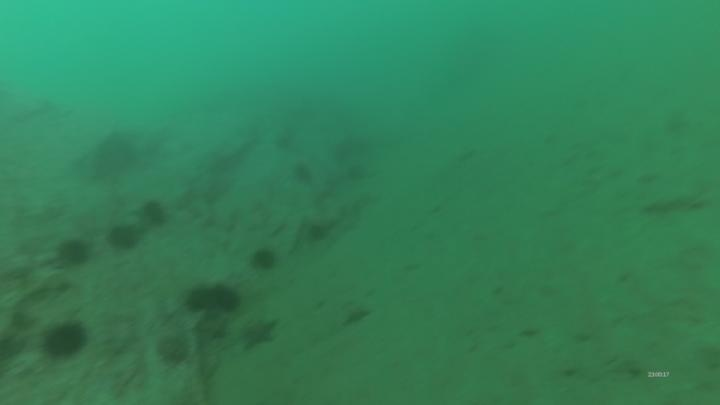echinus: (88, 131, 140, 181), (40, 319, 89, 362), (154, 331, 192, 368), (54, 236, 93, 269), (106, 222, 142, 254), (138, 198, 170, 229), (248, 245, 280, 274), (185, 284, 211, 318), (211, 278, 236, 310), (304, 220, 332, 245), (290, 161, 315, 186)
starfish: (236, 314, 281, 354), (337, 302, 371, 329)
